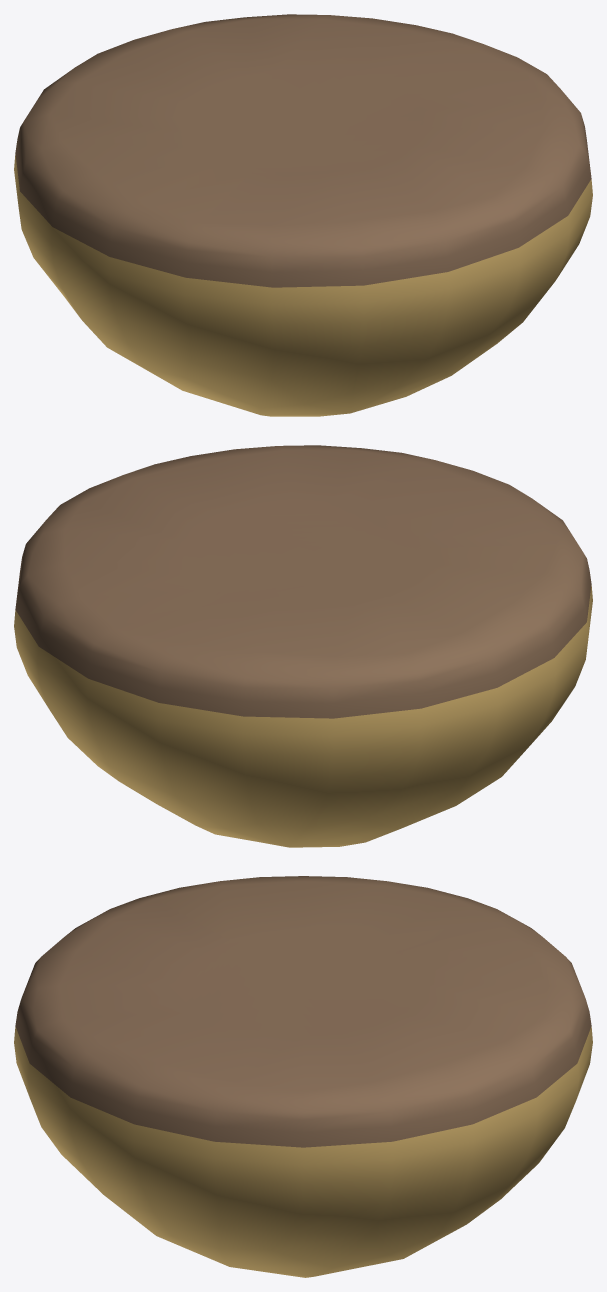
File: Cacao_Island_01.fbx
The picture shows the model from 3 angles, top to bottom: view 1: azimuth 30°, elevation 25°; view 2: azimuth 150°, elevation 25°; view 3: azimuth 270°, elevation 25°; orthographic projection.
Visible parts, largest first — view 1: Cacao_Island_01; view 2: Cacao_Island_01; view 3: Cacao_Island_01.
Part boxes in pixels (x1,y1,x2,y2): Cacao_Island_01: [14, 14, 592, 416]; Cacao_Island_01: [14, 445, 592, 847]; Cacao_Island_01: [14, 876, 592, 1277].
Size of the model in its own units: 17.73 by 9.2 by 17.74.
